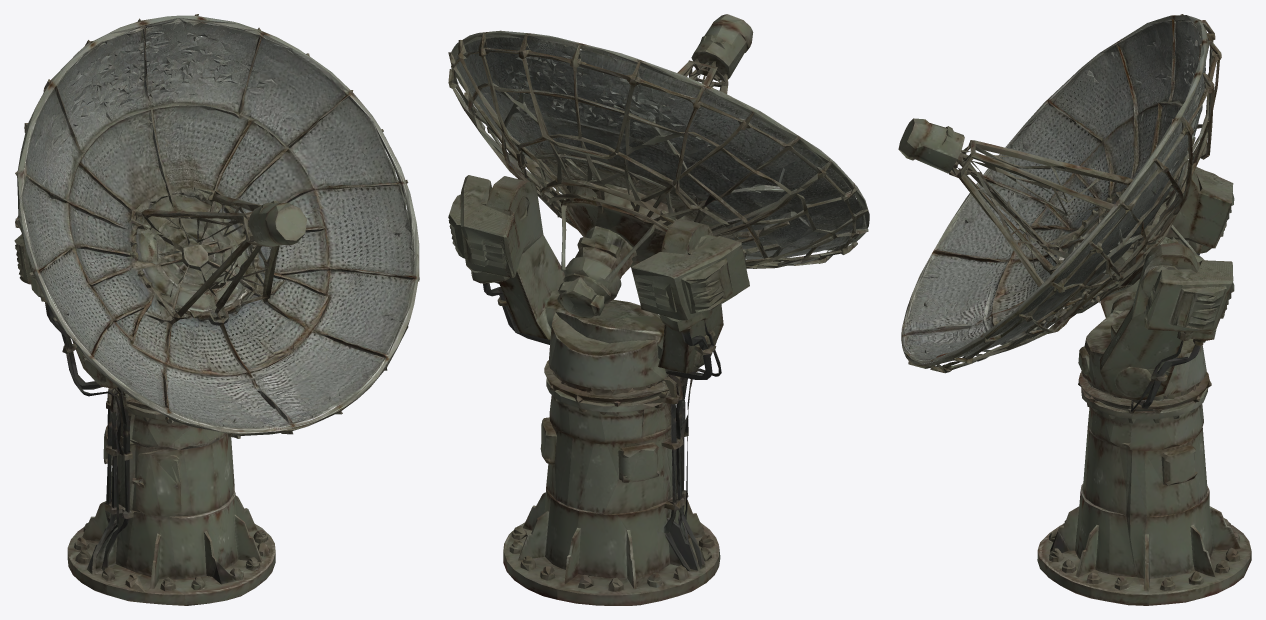
Rendered from radar_dish.glb.
The picture shows the model from 3 angles, left to right: view 1: azimuth 30°, elevation 25°; view 2: azimuth 150°, elevation 25°; view 3: azimuth 270°, elevation 25°; orthographic projection. The views are drawn at different scales.
Visible parts, largest first — view 1: radar_dish; view 2: radar_dish; view 3: radar_dish.
Boxes of the visible parts, box(x1,y1,x2,y2) form: radar_dish: box(14, 14, 419, 605); radar_dish: box(448, 14, 869, 605); radar_dish: box(898, 14, 1251, 605).
Bounding box in the file's own units: 6.07 × 8 × 4.9.
Materials: 1 (1 with a texture image).
